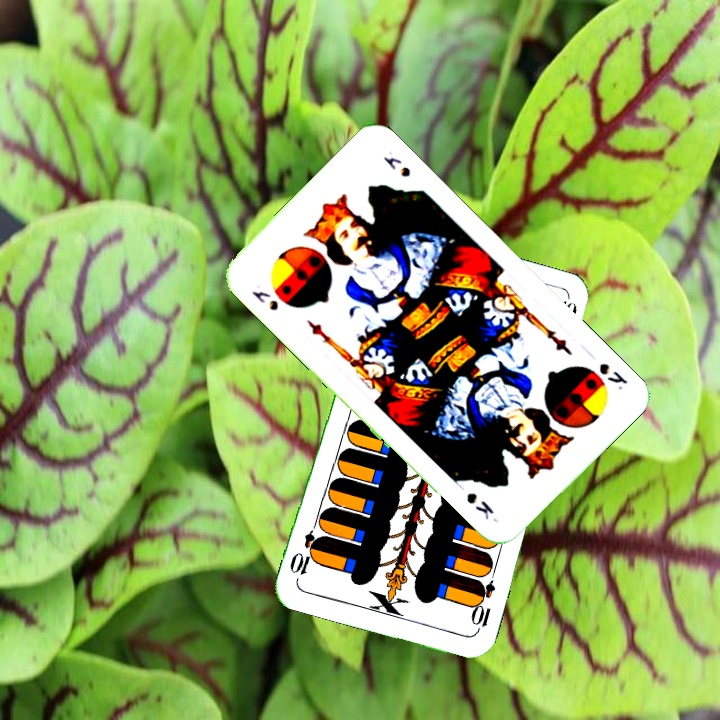E10: (466, 576, 498, 635)
SK: (595, 359, 631, 393), (248, 286, 281, 314)
